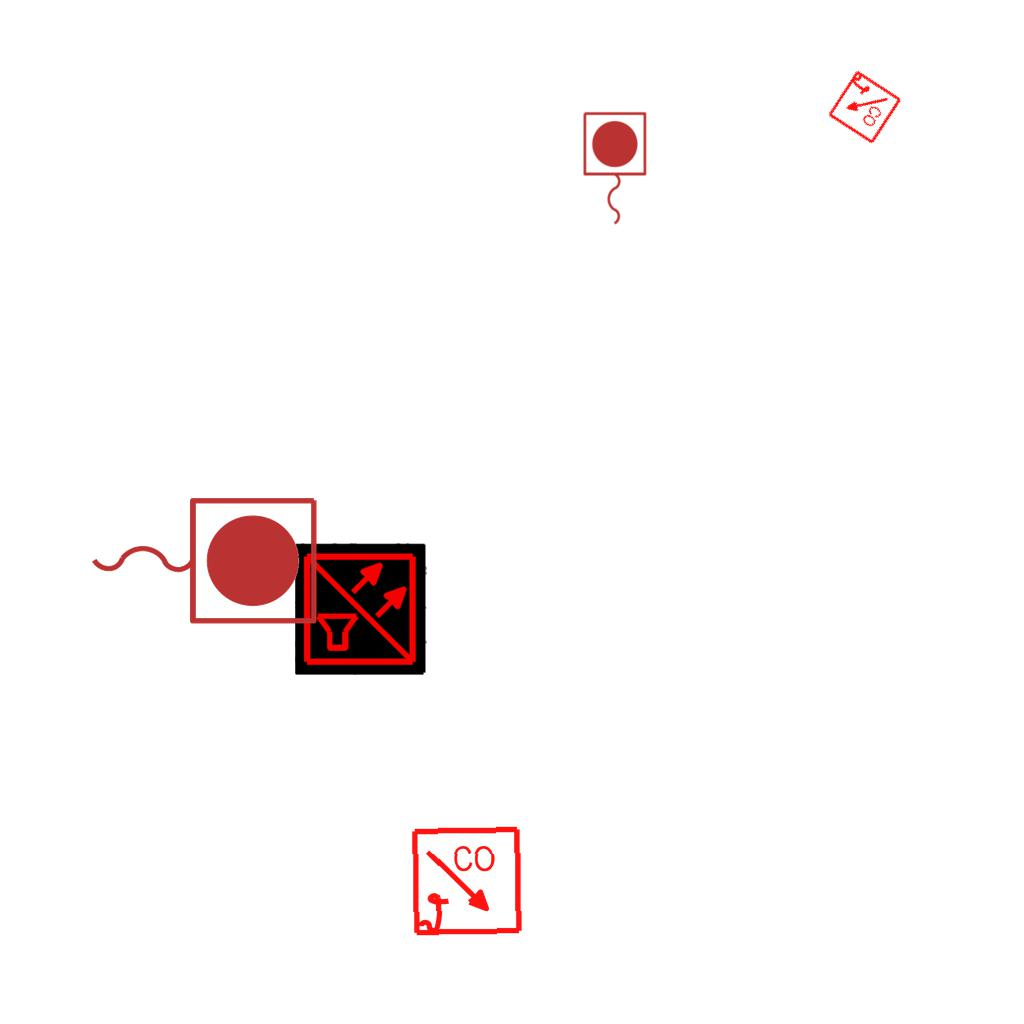OKW_Multisensormelder_(Kombination_optischer_Rauch-Kahlenmonoxid_Waerme-Melder): (295, 543, 427, 675)
ROA_Rauchmelder_optisch_mit_Signalgeber_(Sockelsirene): (410, 825, 525, 940), (825, 68, 903, 146)
Zugtaster: (81, 487, 325, 631), (578, 108, 650, 230)
